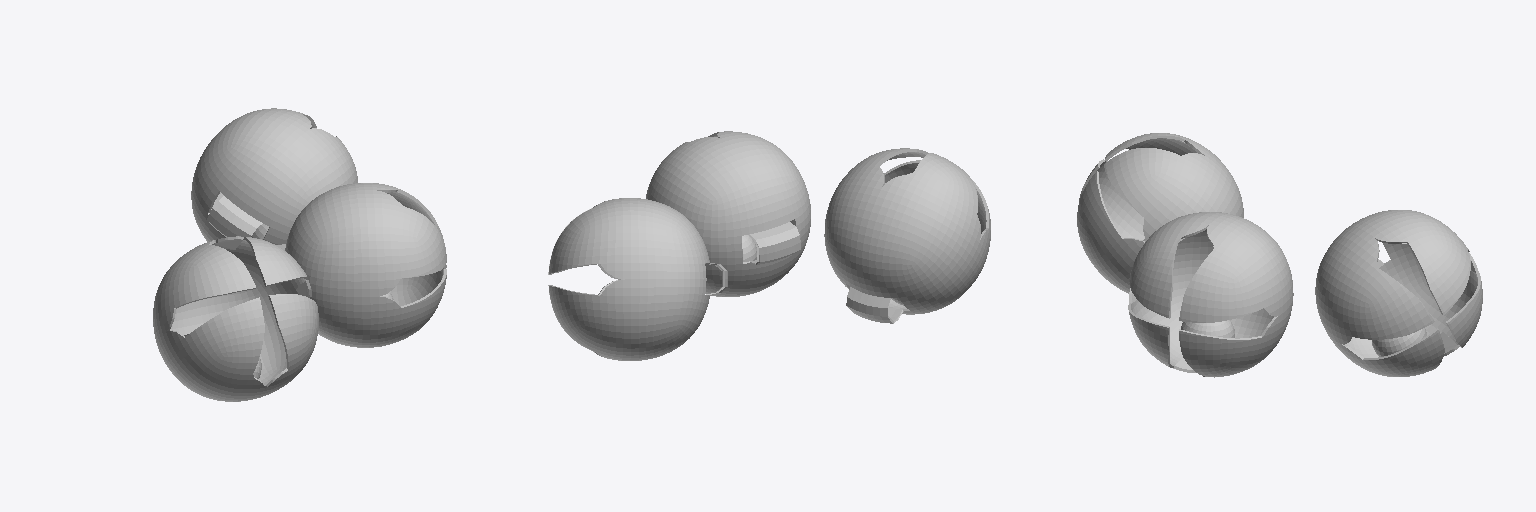
File: Bell.obj
The picture shows the model from 3 angles: view 1: azimuth 30°, elevation 25°; view 2: azimuth 150°, elevation 25°; view 3: azimuth 270°, elevation 25°; orthographic projection.
Visible parts, largest first — view 1: Cube.004_Cube.003, Cube.001_Cube.003, Cube.002_Cube.003; view 2: Cube.004_Cube.003, Cube.002_Cube.003, Cube.001_Cube.003; view 3: Cube.001_Cube.003, Cube.002_Cube.003, Cube.004_Cube.003, Sphere.002, Sphere.001_Sphere.002.
Part boxes in pixels (bbox=[...]): Cube.004_Cube.003: bbox=[153, 236, 318, 401]; Cube.001_Cube.003: bbox=[276, 183, 446, 347]; Cube.002_Cube.003: bbox=[191, 108, 357, 244]; Cube.004_Cube.003: bbox=[824, 148, 990, 323]; Cube.002_Cube.003: bbox=[548, 198, 727, 360]; Cube.001_Cube.003: bbox=[646, 131, 810, 296]; Cube.001_Cube.003: bbox=[1128, 212, 1293, 377]; Cube.002_Cube.003: bbox=[1315, 210, 1482, 376]; Cube.004_Cube.003: bbox=[1077, 133, 1243, 293]; Sphere.002: bbox=[1372, 328, 1426, 356]; Sphere.001_Sphere.002: bbox=[1181, 320, 1234, 337].
Bounding box in the file's own units: 4.44 × 2.14 × 5.18.